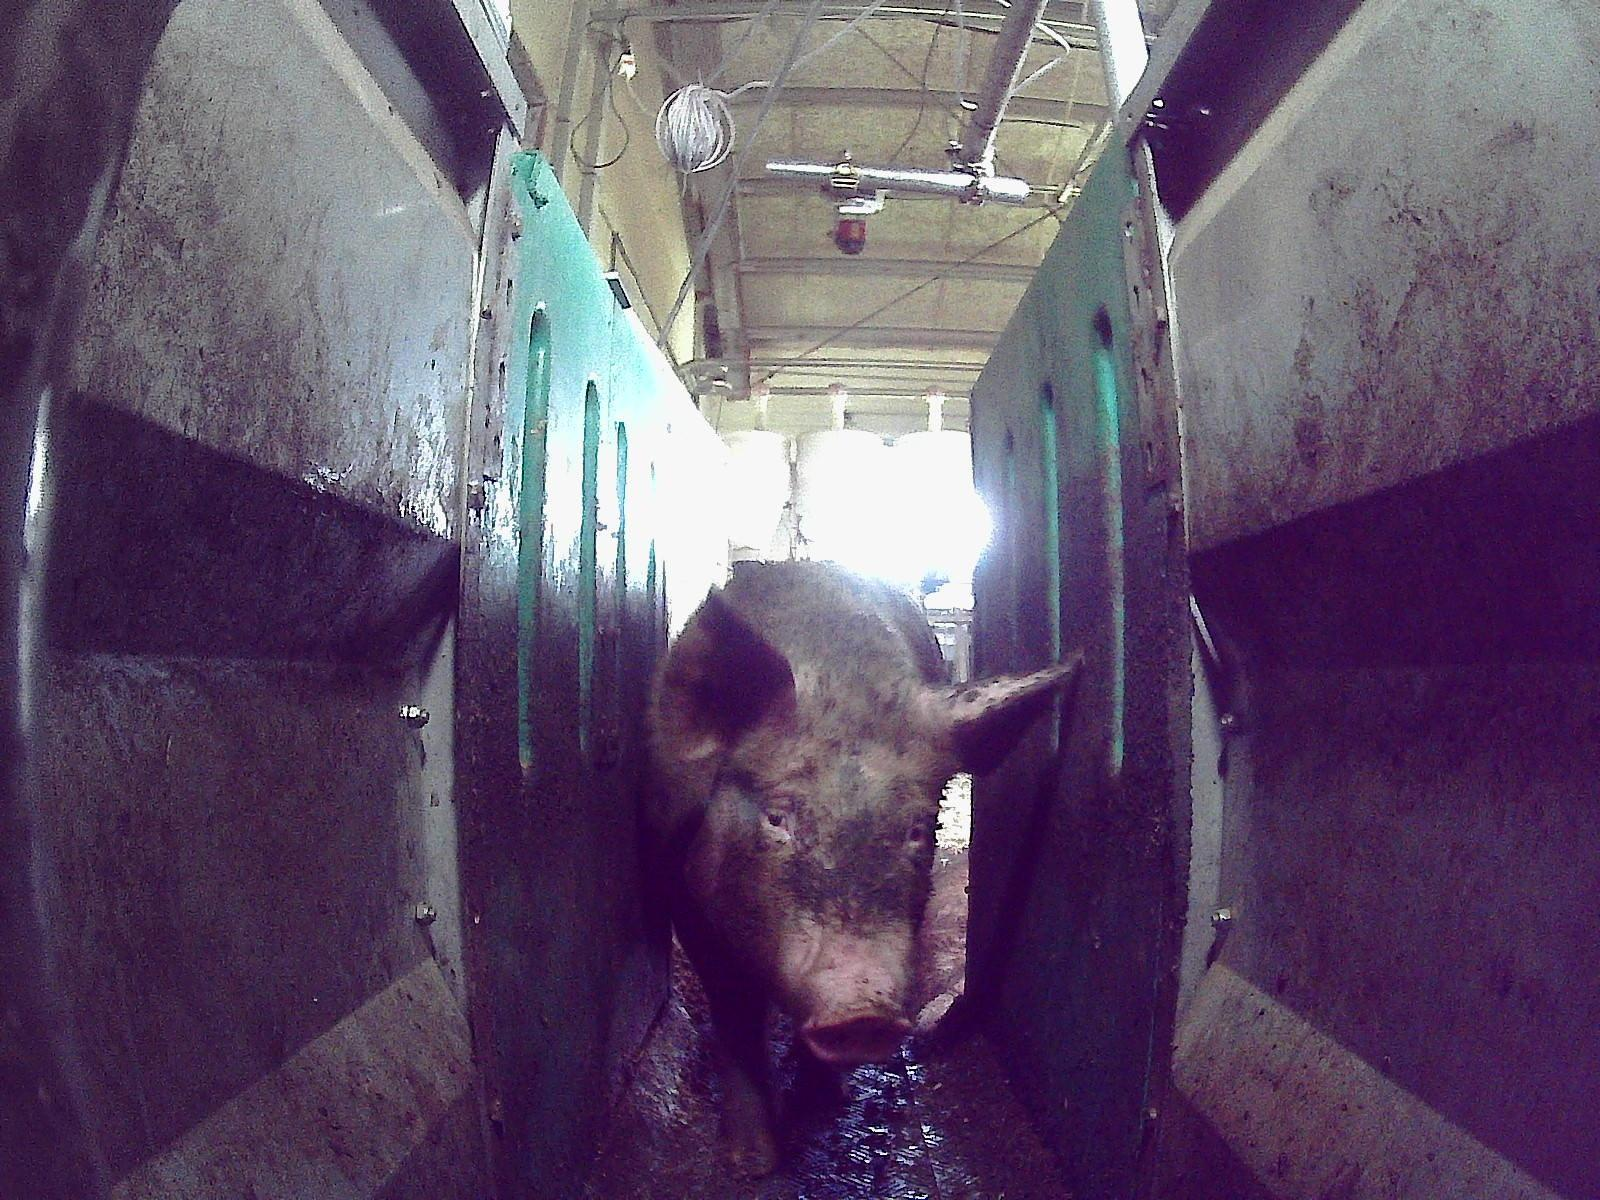Face: (705, 682, 944, 1060)
